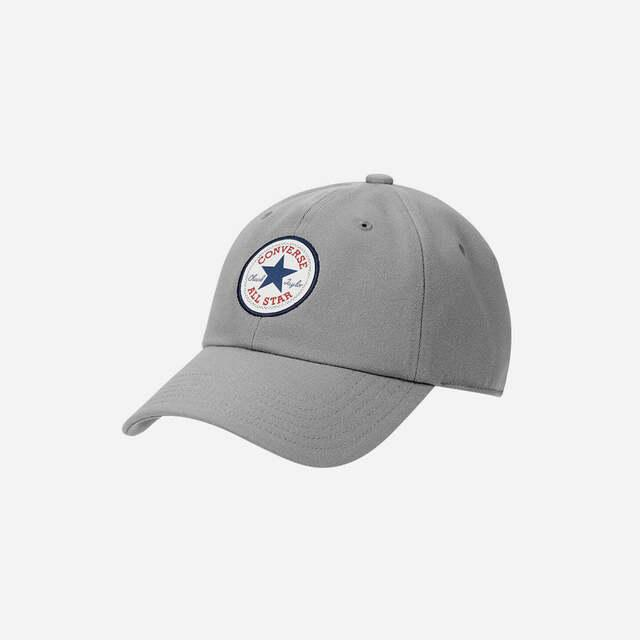Cap: (106, 159, 525, 476)
